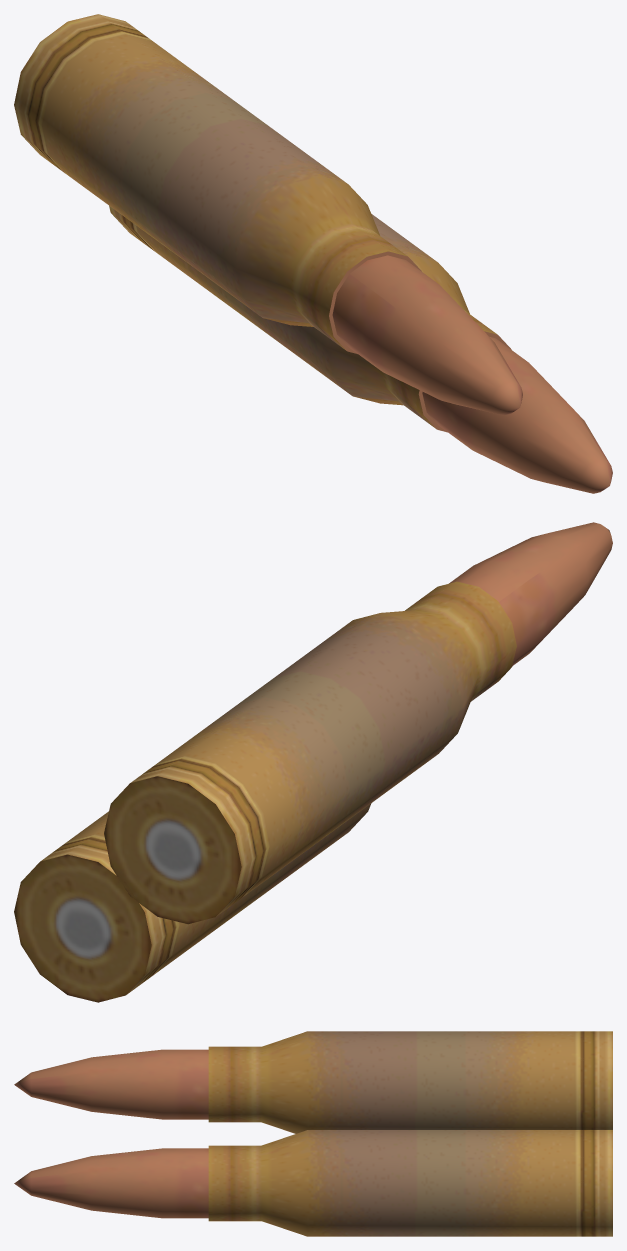
File: AssaultRifleCartriges.fbx
The picture shows the model from 3 angles, top to bottom: view 1: azimuth 30°, elevation 25°; view 2: azimuth 150°, elevation 25°; view 3: azimuth 270°, elevation 25°; orthographic projection. The views are drawn at different scales.
Visible parts, largest first — view 1: cartridge; view 2: cartridge; view 3: cartridge.
Part boxes in pixels (x1=…): cartridge: x1=14, y1=14, x2=612, y2=493; cartridge: x1=14, y1=522, x2=612, y2=1002; cartridge: x1=14, y1=1031, x2=612, y2=1236.
Bounding box in the file's own units: 1.8 × 1.82 × 5.99.
